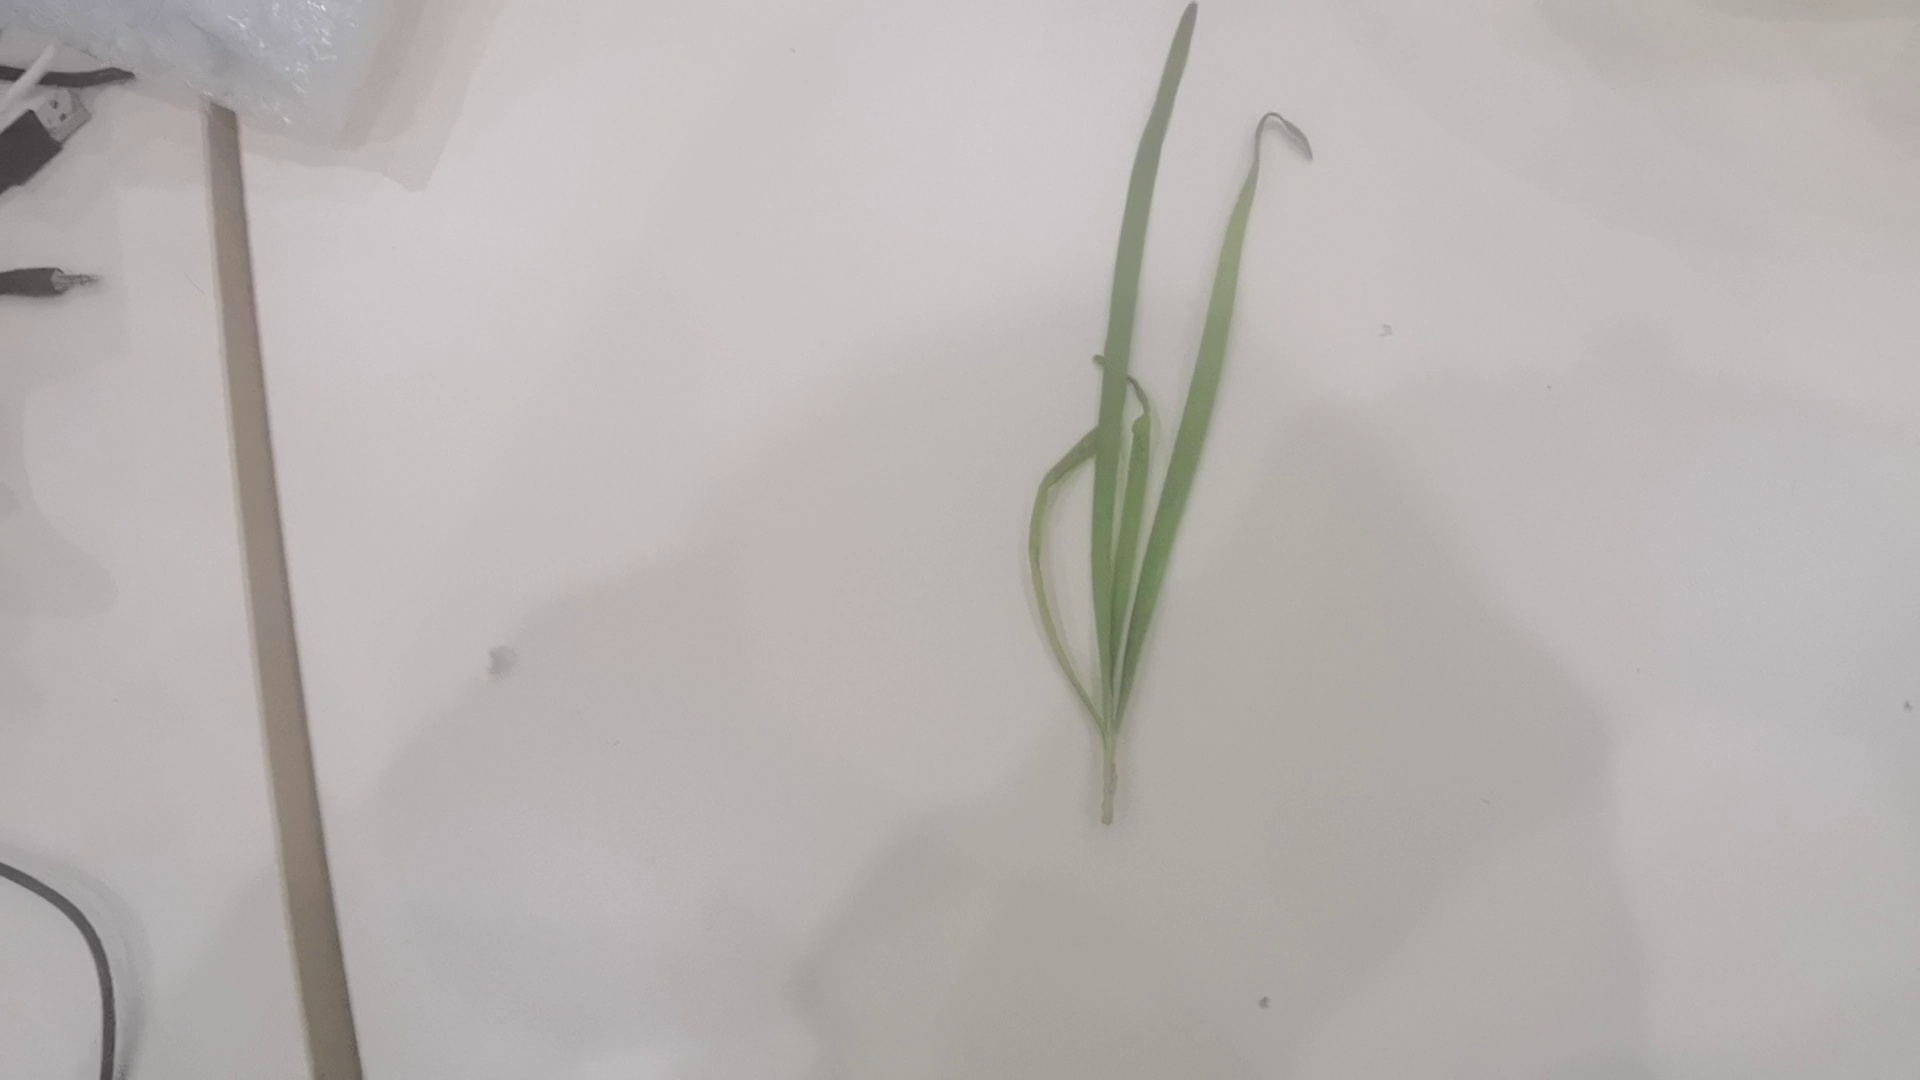chives: (1010, 55, 1233, 692)
